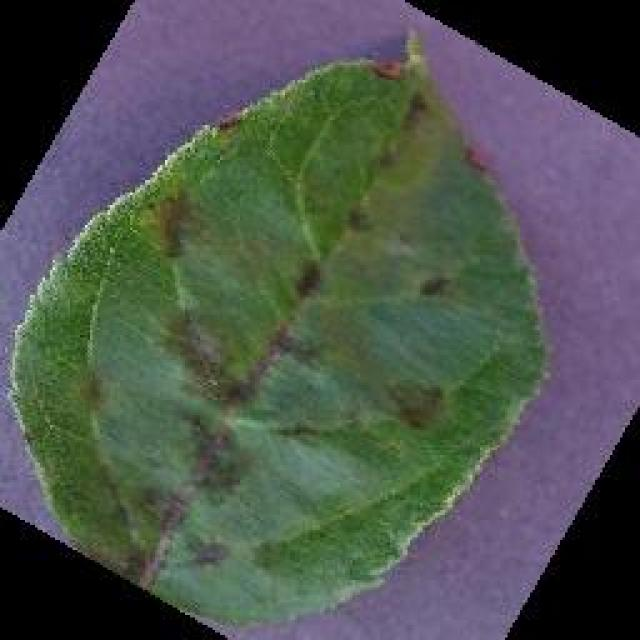apple scab disease: (5, 28, 553, 628)
